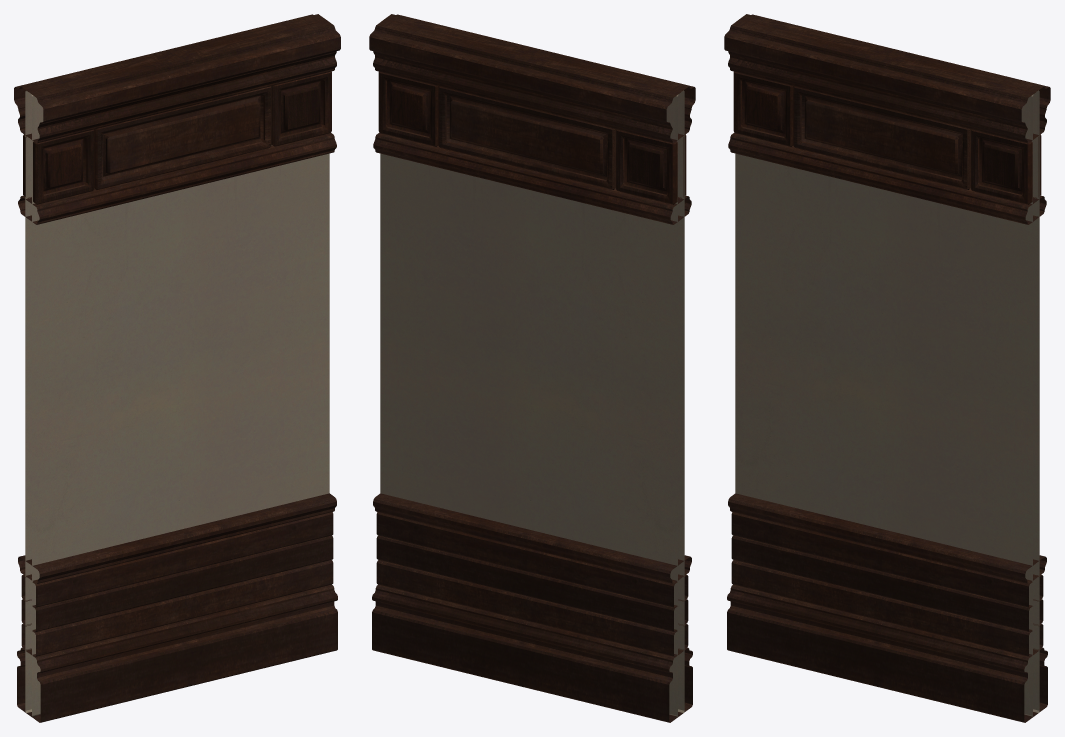
File: SK6 WALL 1 INT.fbx
3 views of the same model, side by side, from view 1: azimuth 30°, elevation 25°; view 2: azimuth 150°, elevation 25°; view 3: azimuth 330°, elevation 25° (orthographic).
Parts seen in each view (by area): view 1: SK6 WALL 1 INT; view 2: SK6 WALL 1 INT; view 3: SK6 WALL 1 INT.
Part boxes in pixels (bbox=[...]): SK6 WALL 1 INT: bbox=[14, 14, 340, 722]; SK6 WALL 1 INT: bbox=[369, 14, 695, 722]; SK6 WALL 1 INT: bbox=[724, 14, 1050, 722].
Size of the model in its own units: 200 by 400 by 33.96.
